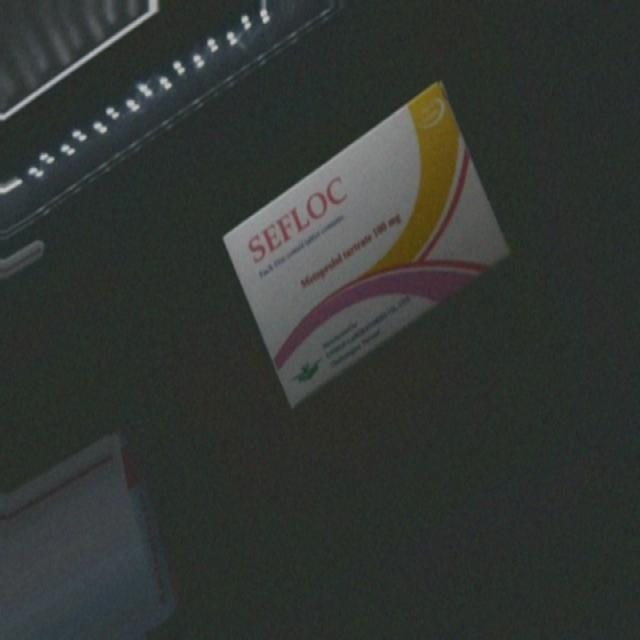medicine_name_detection: (220, 85, 506, 404)
